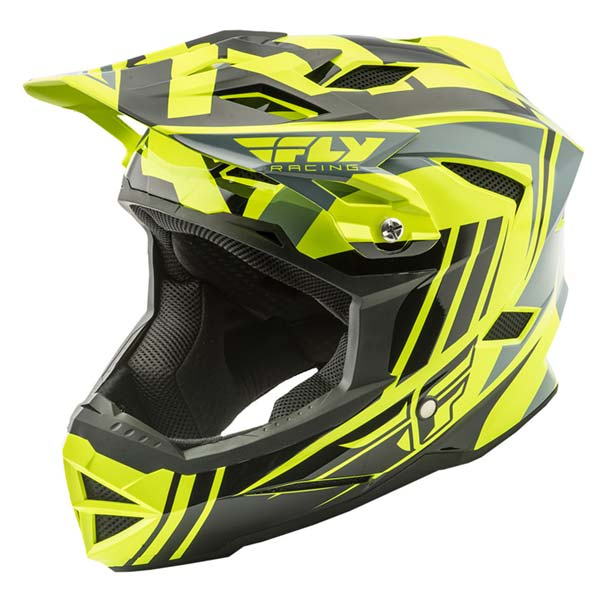with_helmet: (17, 24, 586, 582)
